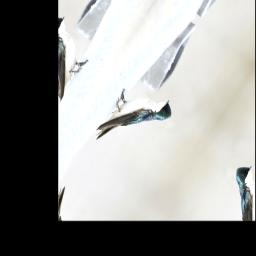Swallow: (89, 70, 179, 172)
